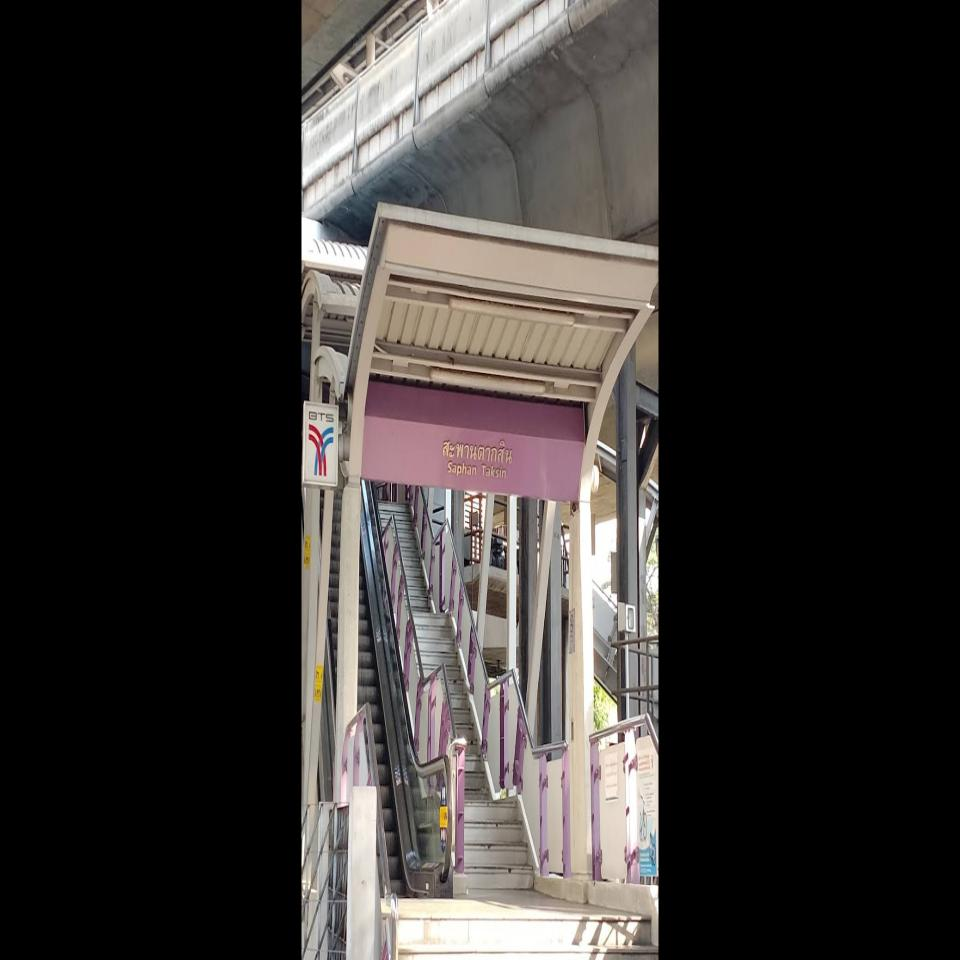Saphan Taksin: (303, 400, 586, 499), (362, 416, 586, 499)
